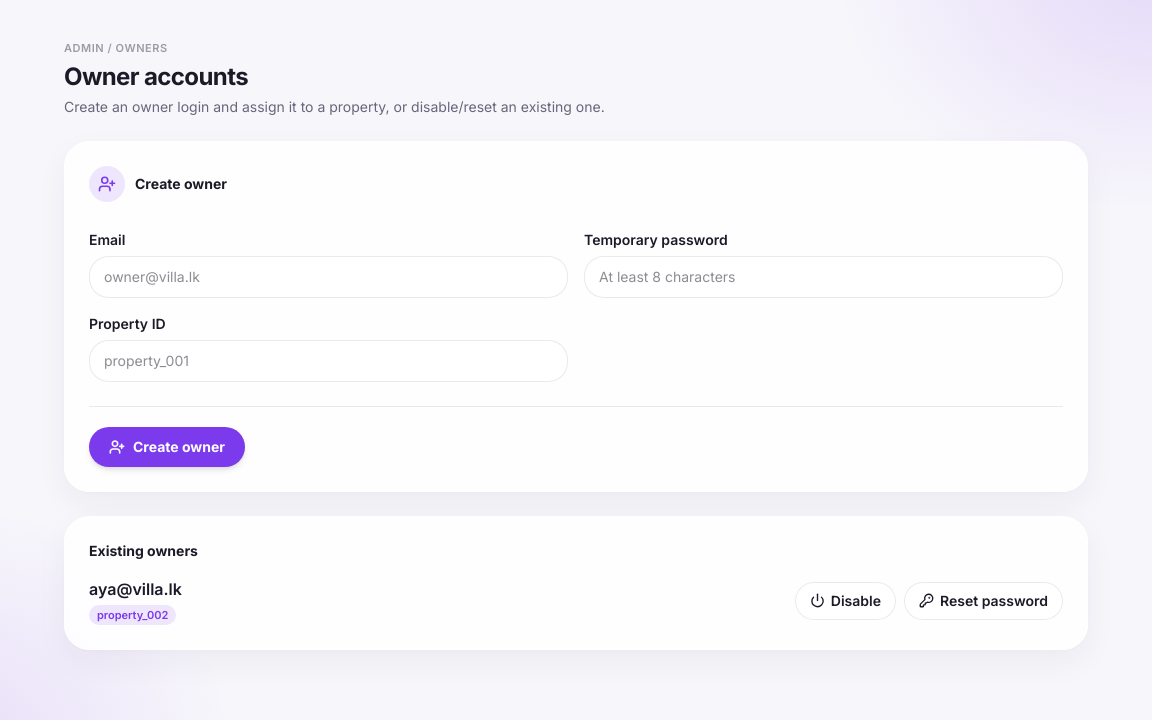
Scenario: AdminOwners › surfaces a disable error and keeps the current owner state
This screenshot has width=1152, height=720.
Step 1. Click the button "Disable" → x=845, y=601, box [795, 582, 896, 620]
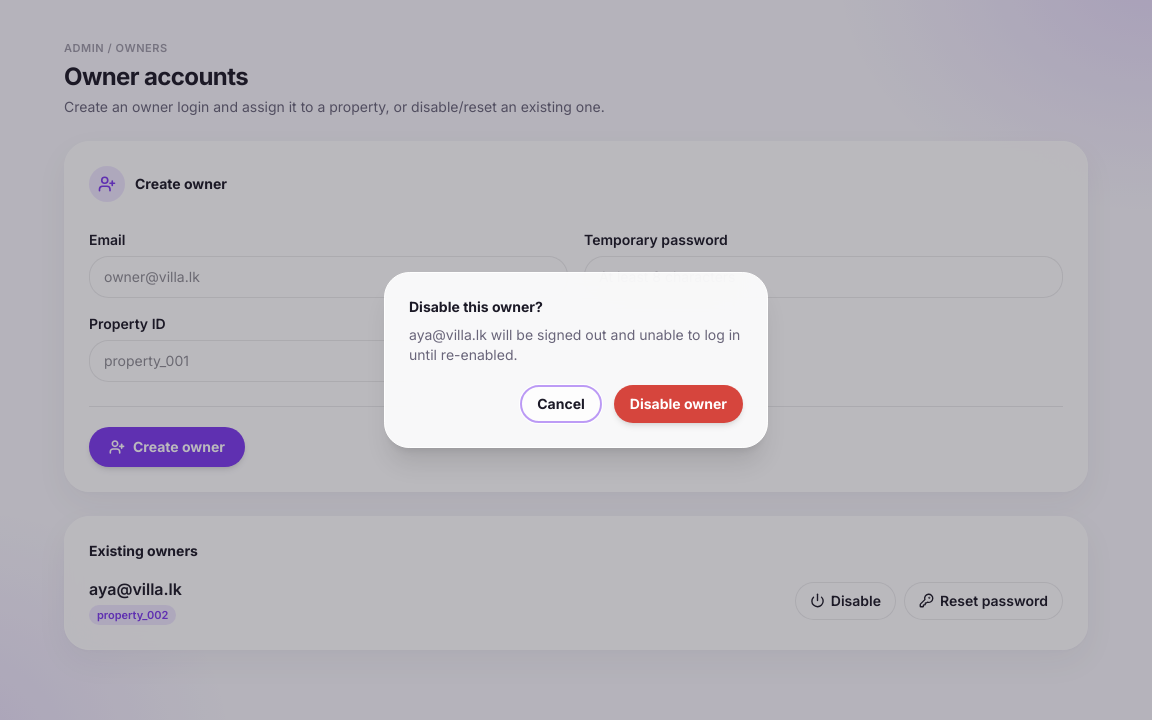
Step 2. Click the button "Disable owner" → x=678, y=404, box [614, 385, 743, 423]
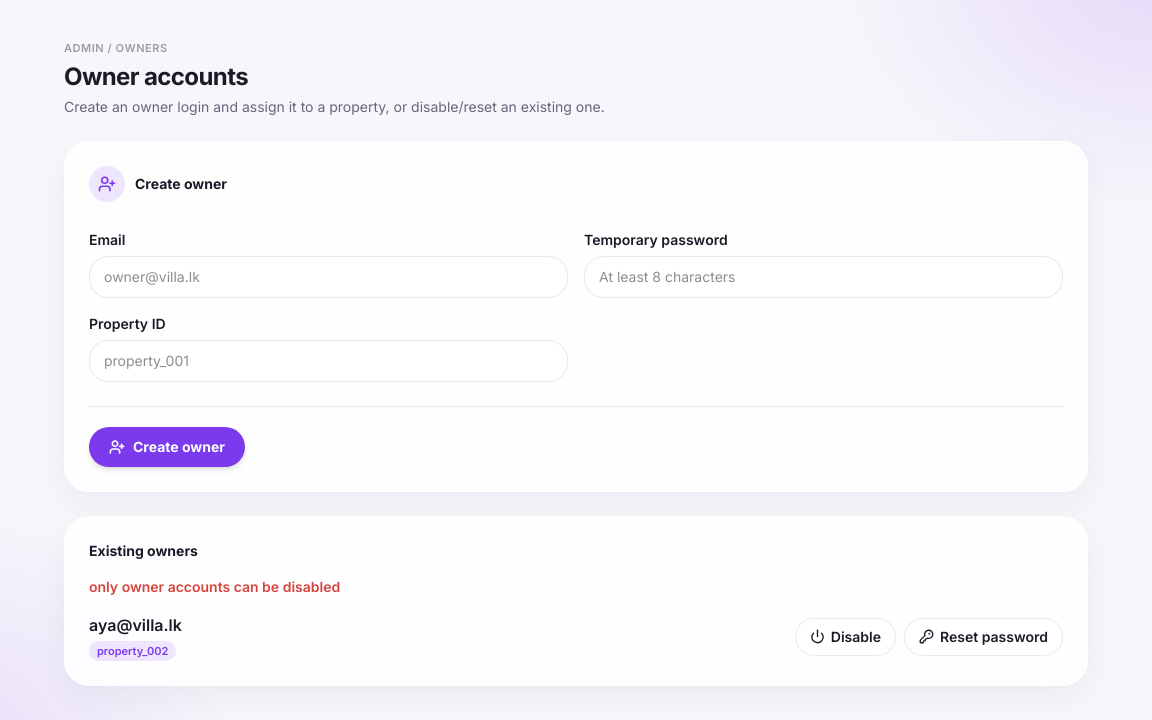
Expected: the message reads "only owner accounts can be disabled", [89, 578, 340, 594]
